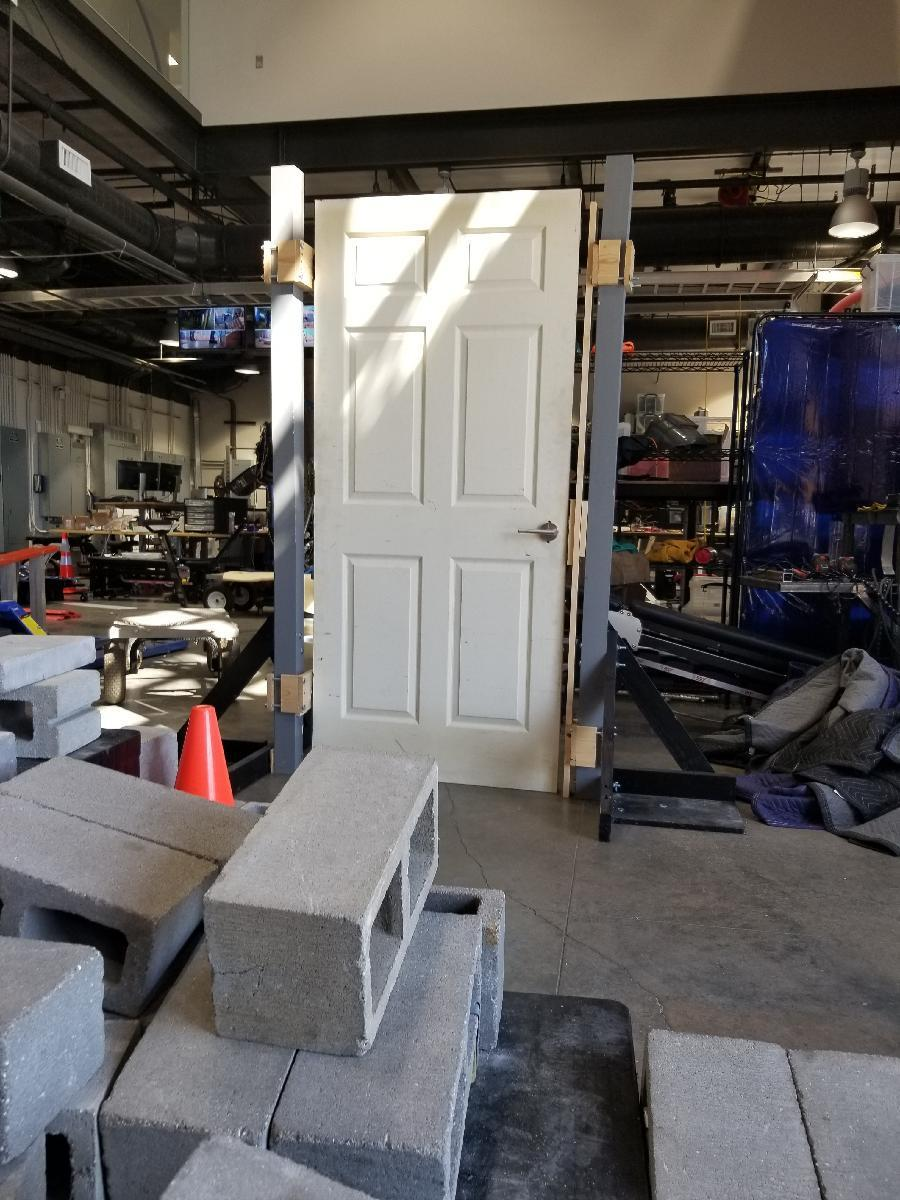door: (308, 195, 574, 802)
handle: (514, 516, 562, 544)
